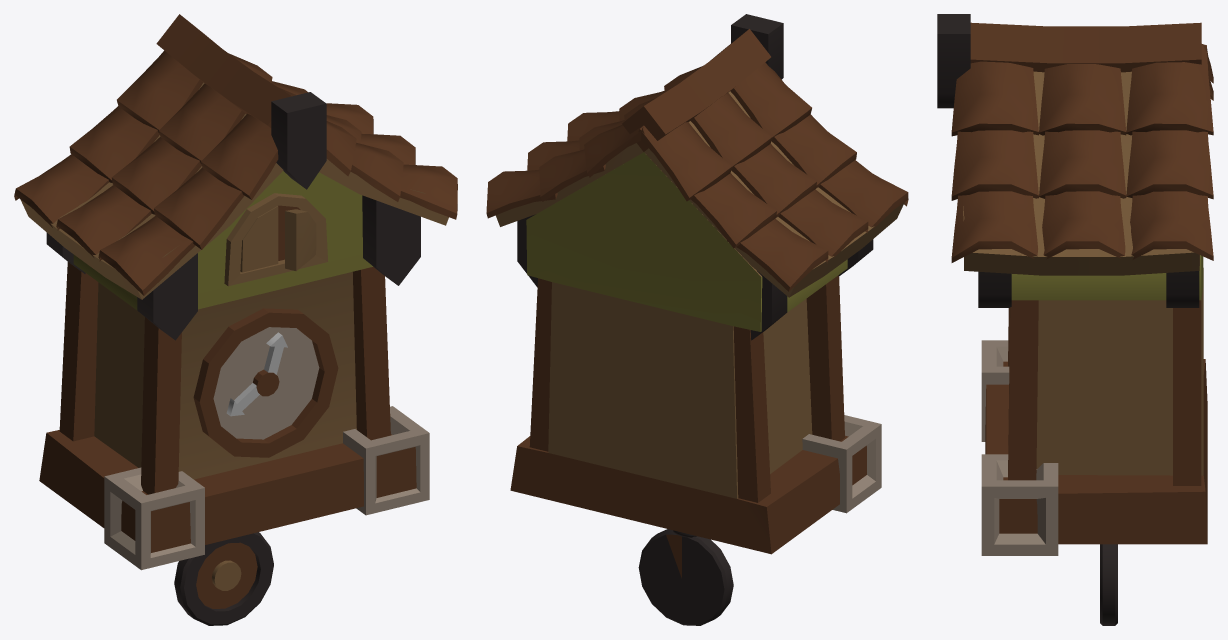
File: ClockFBX.fbx
3 renders of one model, left to right at view 1: azimuth 30°, elevation 25°; view 2: azimuth 150°, elevation 25°; view 3: azimuth 270°, elevation 25°, orthographic. The views are drawn at different scales.
Visible parts, largest first — view 1: main, face, shingle2 (×6), shingle1 (×4), shingle (×4), frontedge, ornamentCorner, ornament1, medallion, backedge, top1, roof (+4 smaller); view 2: main, shingle2 (×6), shingle (×4), shingle1 (×4), backedge, medallion, top1, frontedge, roof, ornamentCorner, ornament2, ornament; view 3: main, shingle (×3), shingle1 (×3), shingle2 (×3), top1, roof, ornamentCorner, frontedge, backedge, ornament, medallion, ornament2 (+1 smaller).
Part boxes in pixels (x1=…): main: x1=39, y1=171, x2=416, y2=552; face: x1=193, y1=308, x2=338, y2=457; shingle2 (×6): x1=14, y1=103, x2=457, y2=295; shingle1 (×4): x1=69, y1=106, x2=403, y2=249; shingle (×4): x1=117, y1=50, x2=356, y2=199; frontedge: x1=141, y1=267, x2=390, y2=494; ornamentCorner: x1=104, y1=406, x2=429, y2=570; ornament1: x1=137, y1=195, x2=420, y2=340; medallion: x1=174, y1=532, x2=273, y2=625; backedge: x1=59, y1=262, x2=98, y2=441; top1: x1=156, y1=14, x2=291, y2=127; roof: x1=20, y1=82, x2=448, y2=299; main: x1=510, y1=152, x2=866, y2=554; shingle2 (×6): x1=486, y1=111, x2=908, y2=291; shingle (×4): x1=584, y1=62, x2=811, y2=201; shingle1 (×4): x1=539, y1=114, x2=856, y2=248; backedge: x1=529, y1=278, x2=770, y2=502; medallion: x1=638, y1=529, x2=733, y2=625; top1: x1=622, y1=29, x2=770, y2=151; frontedge: x1=806, y1=275, x2=844, y2=441; roof: x1=496, y1=91, x2=904, y2=297; ornamentCorner: x1=802, y1=415, x2=881, y2=513; ornament2: x1=517, y1=214, x2=787, y2=340; ornament: x1=731, y1=14, x2=783, y2=79; main: x1=985, y1=255, x2=1207, y2=544; shingle (×3): x1=951, y1=44, x2=1213, y2=136; shingle1 (×3): x1=951, y1=130, x2=1213, y2=200; shingle2 (×3): x1=951, y1=191, x2=1213, y2=262; top1: x1=970, y1=22, x2=1201, y2=72; roof: x1=963, y1=71, x2=1199, y2=275; ornamentCorner: x1=981, y1=340, x2=1058, y2=555; frontedge: x1=1008, y1=300, x2=1038, y2=480; backedge: x1=1173, y1=300, x2=1201, y2=485; ornament: x1=937, y1=14, x2=970, y2=108; medallion: x1=1100, y1=544, x2=1117, y2=625; ornament2: x1=1166, y1=271, x2=1199, y2=307.
Size of the model in its own units: 2.72 by 4.38 by 1.83.
